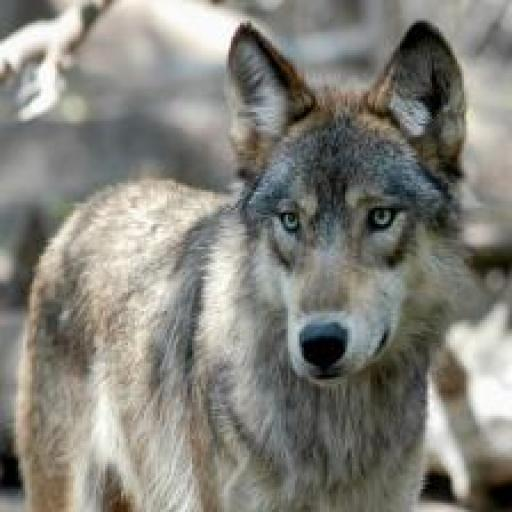wolf: (0, 7, 512, 511)
